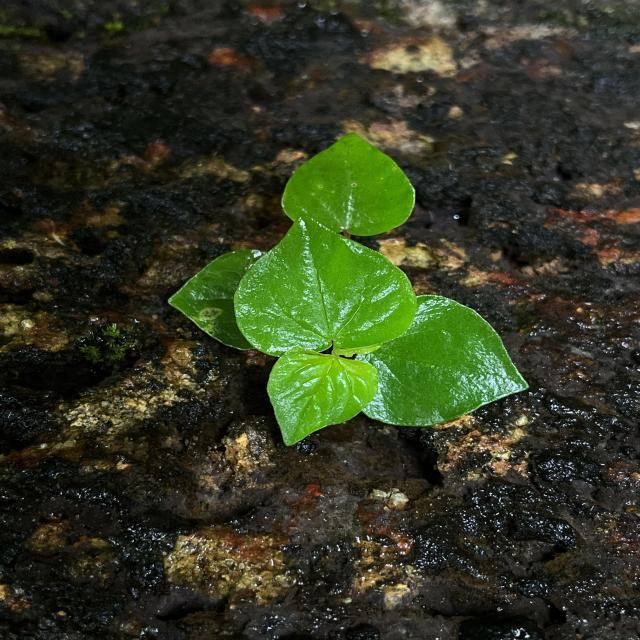Peperomia pellucida: (229, 211, 421, 364), (356, 290, 534, 431), (262, 344, 386, 450)
